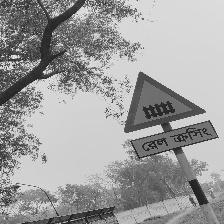Rail-crossing: (123, 72, 218, 161)
